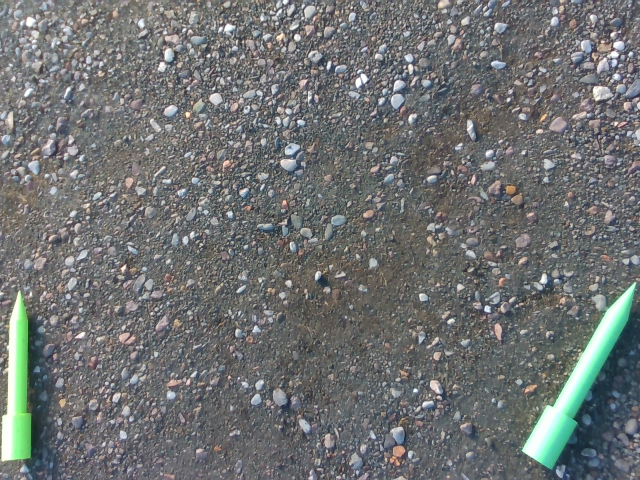Probe: (516, 272, 639, 468), (1, 285, 36, 467)
